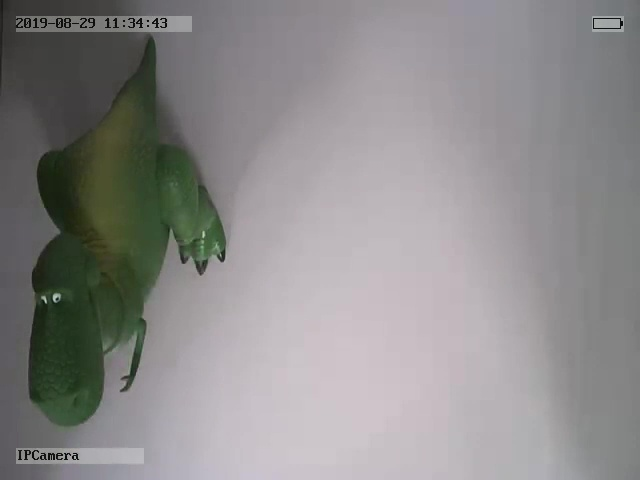rex: (26, 37, 225, 427)
